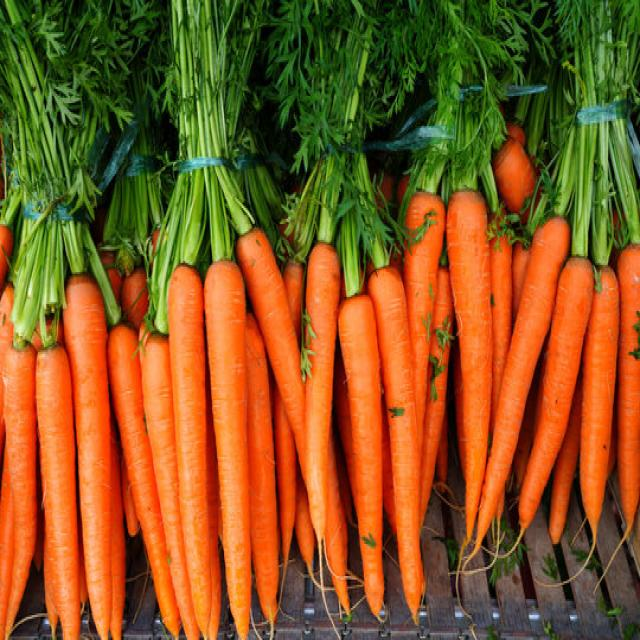Carrot: (453, 213, 571, 598), (236, 226, 319, 542), (107, 322, 180, 638), (517, 254, 594, 530), (366, 263, 424, 624), (136, 322, 199, 638), (62, 272, 112, 638), (203, 260, 251, 638), (444, 188, 492, 544), (167, 263, 211, 638), (337, 294, 385, 622), (34, 338, 80, 638), (578, 263, 619, 562), (244, 311, 280, 638), (403, 188, 446, 454), (304, 240, 340, 542), (1, 338, 37, 638), (418, 267, 453, 535), (616, 242, 639, 546), (487, 208, 513, 437), (323, 420, 351, 622), (273, 382, 296, 615), (548, 384, 580, 544), (0, 438, 14, 638), (282, 258, 303, 338)
